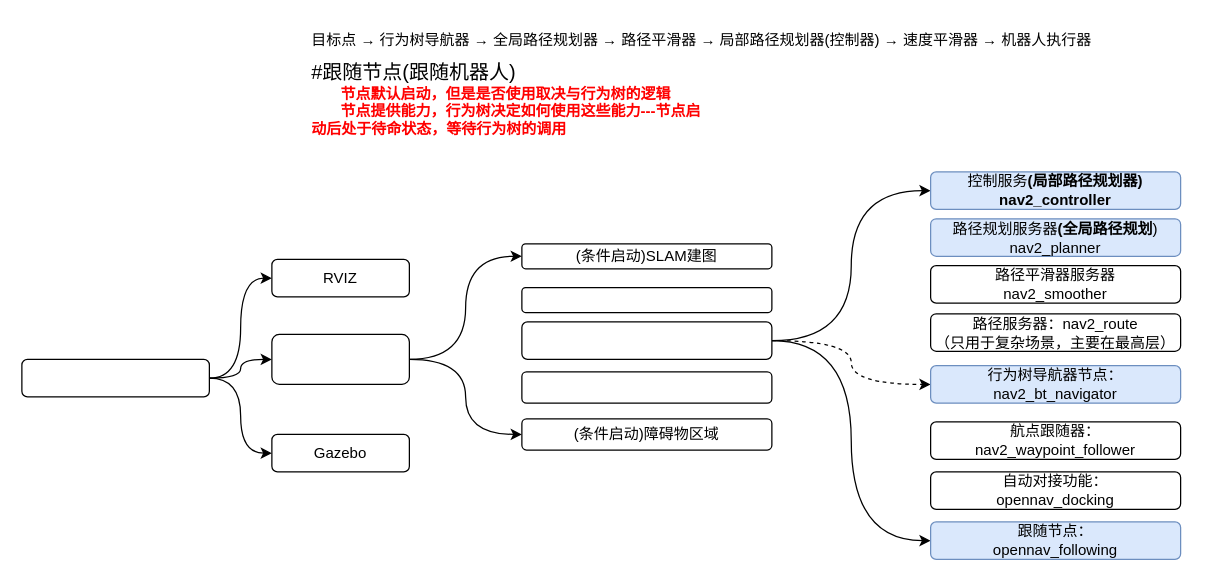
This 1231x581 diagram has some shape labels left out. Here are the shapes that lost their labels. From the top down, the centre of each, then its label:
pixel 646 299: (条件启动)定位启动
pixel 340 358: 导航节点：bringup_launch.py
pixel 646 340: (必须启动) 导航启动navigation_launch.py
pixel 115 377: tb3_simulation_launch.py
pixel 646 387: (条件启动)速度区域启动
